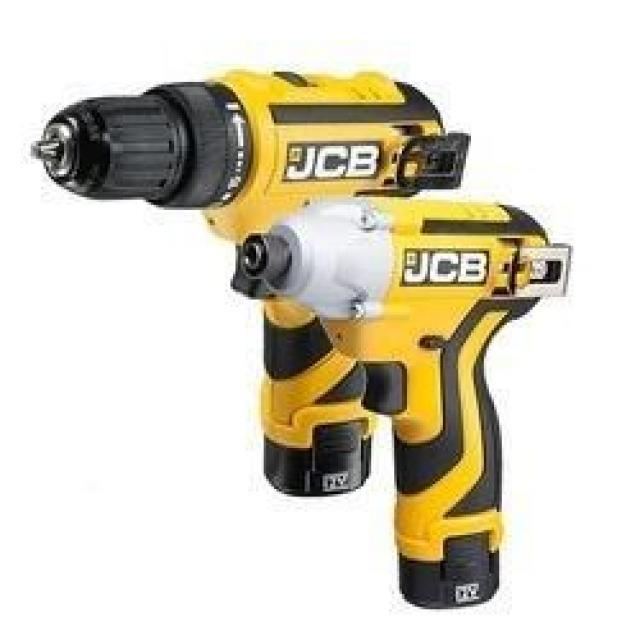drill: (28, 70, 471, 498), (240, 195, 574, 610)
